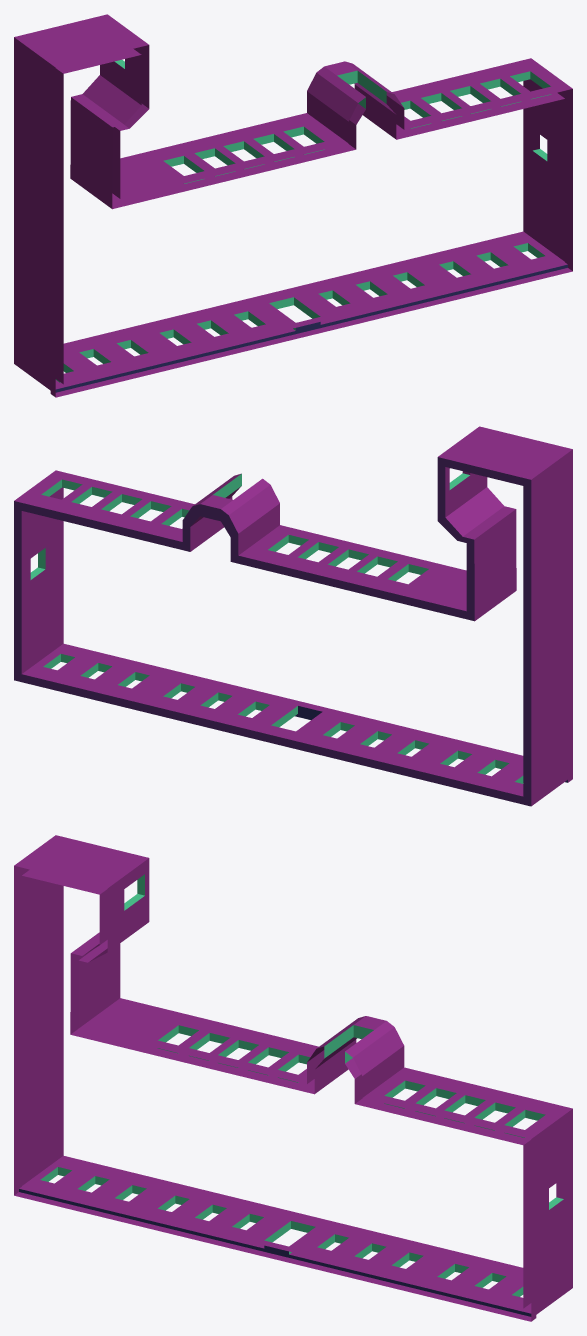
File: Stowarzyszenie Kupców Tier 1.fbx
3 views of the same model, one above another, from view 1: azimuth 30°, elevation 25°; view 2: azimuth 150°, elevation 25°; view 3: azimuth 330°, elevation 25° (orthographic).
Visible parts, largest first — view 1: Stowarzyszenie Kupców; view 2: Stowarzyszenie Kupców; view 3: Stowarzyszenie Kupców.
Boxes of the visible parts, x1=… form: Stowarzyszenie Kupców: x1=14, y1=14, x2=572, y2=397; Stowarzyszenie Kupców: x1=14, y1=426, x2=572, y2=806; Stowarzyszenie Kupców: x1=14, y1=835, x2=572, y2=1321.
Size of the model in its own units: 4.1 by 2.5 by 0.5751.
